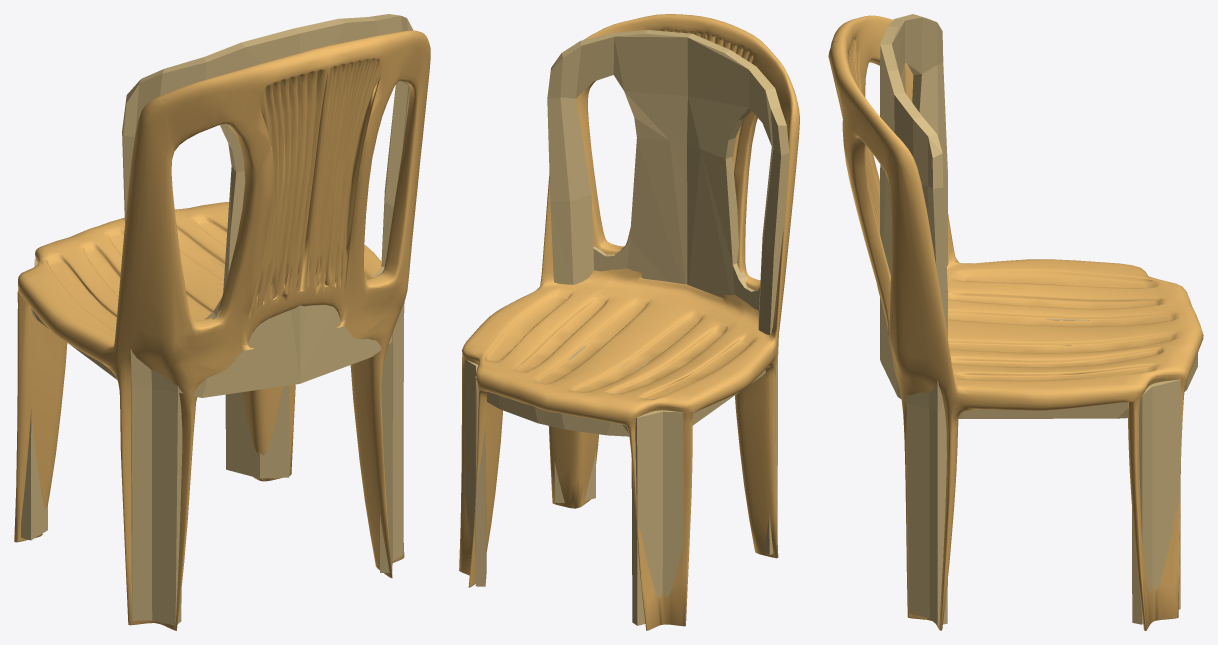
File: PlasticChair_LP.fbx
3 renders of one model, left to right at view 1: azimuth 30°, elevation 25°; view 2: azimuth 150°, elevation 25°; view 3: azimuth 270°, elevation 25°, orthographic. The views are drawn at different scales.
Visible parts, largest first — view 1: MonoblockGamingChair2, Plane; view 2: MonoblockGamingChair2, Plane; view 3: MonoblockGamingChair2, Plane.
Boxes of the visible parts, box(x1,y1,x2,y2) form: MonoblockGamingChair2: box(14, 30, 430, 630); Plane: box(21, 14, 413, 625); MonoblockGamingChair2: box(459, 14, 799, 630); Plane: box(464, 30, 789, 625); MonoblockGamingChair2: box(828, 15, 1203, 630); Plane: box(880, 14, 1197, 625).
Size of the model in its own units: 267 by 308 by 477.
